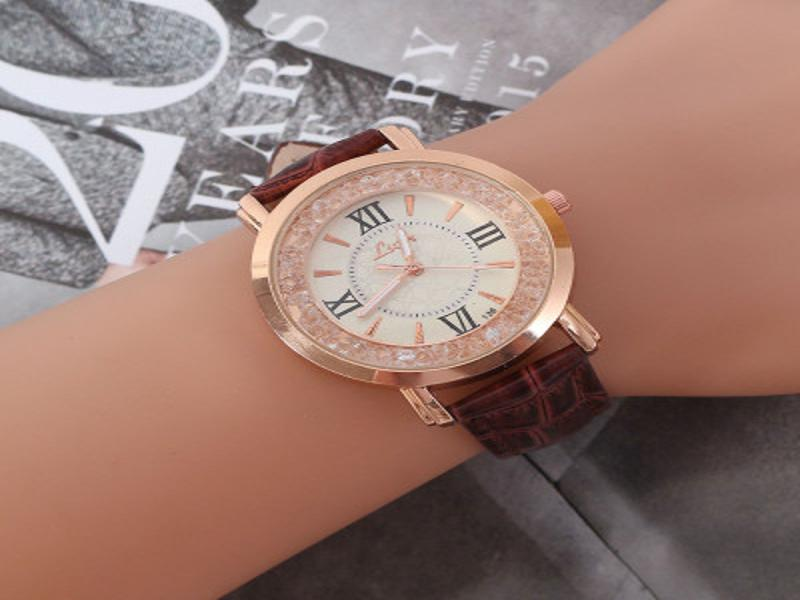watch: (234, 111, 621, 461)
